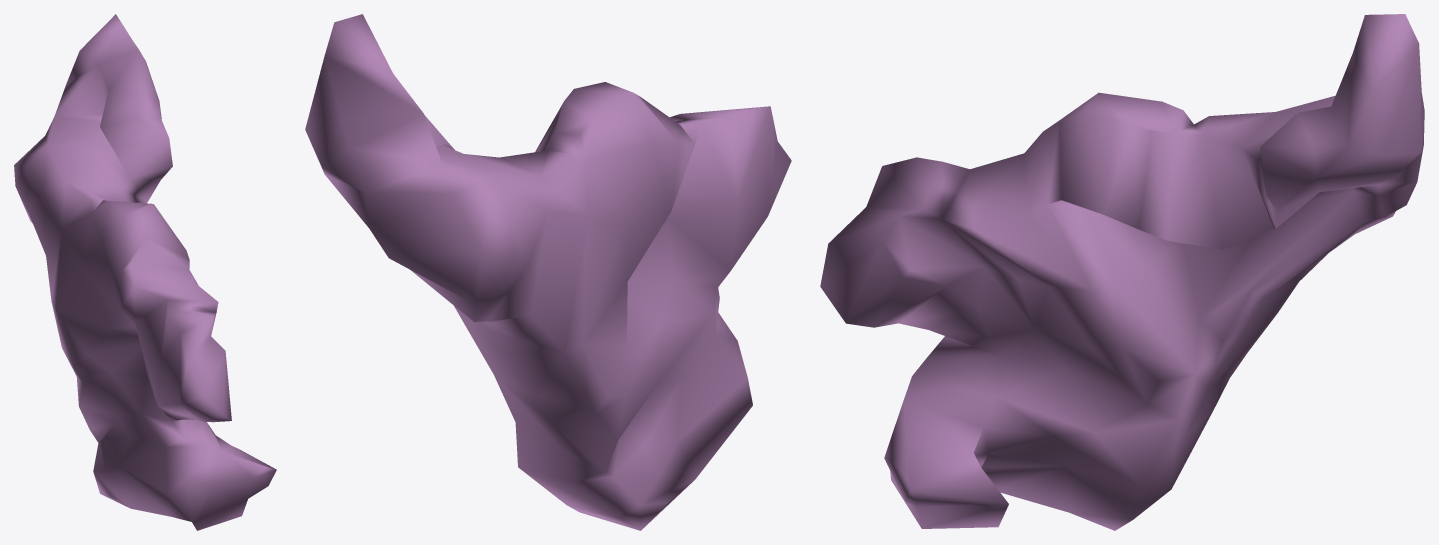
The picture shows the model from 3 angles, left to right: view 1: azimuth 30°, elevation 25°; view 2: azimuth 150°, elevation 25°; view 3: azimuth 270°, elevation 25°; orthographic projection. The views are drawn at different scales.
Parts seen in each view (by area): view 1: 左侧扣带回与扣带沟后背侧部; view 2: 左侧扣带回与扣带沟后背侧部; view 3: 左侧扣带回与扣带沟后背侧部.
Boxes of the visible parts, x1,y1,x2,y2 form: 左侧扣带回与扣带沟后背侧部: [14, 14, 276, 530]; 左侧扣带回与扣带沟后背侧部: [305, 14, 791, 530]; 左侧扣带回与扣带沟后背侧部: [820, 14, 1424, 530].
Size of the model in its own units: 0.0193 by 0.0501 by 0.0487.
